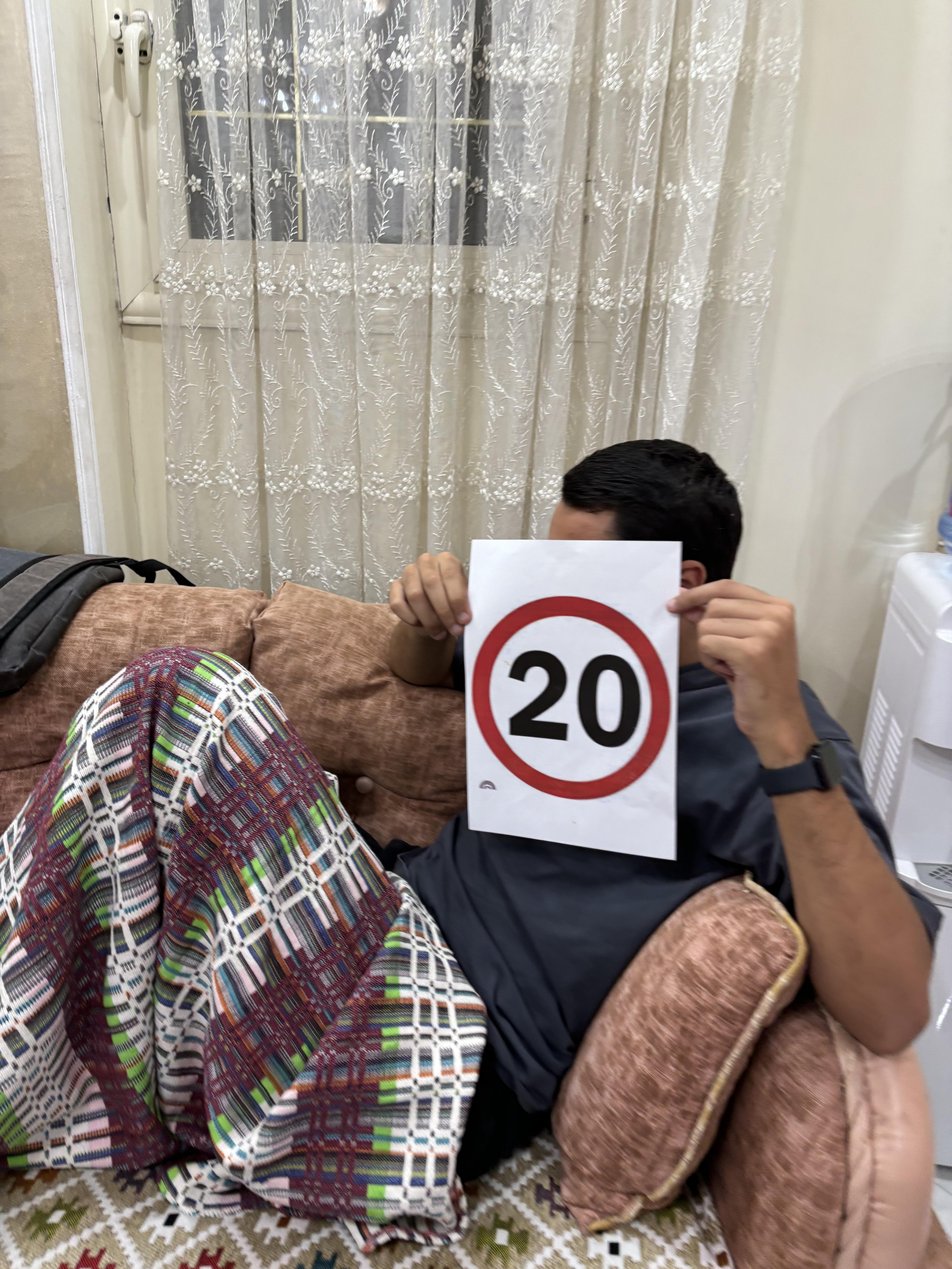20-Speed: (468, 591, 678, 808)
